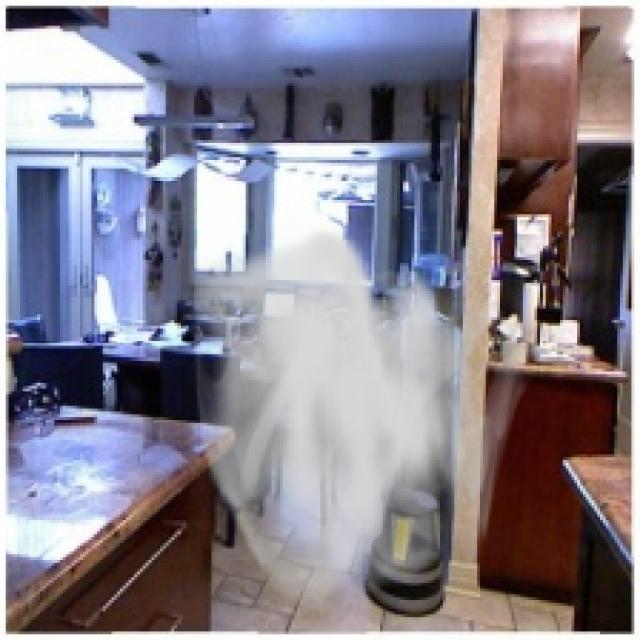Smoke: (182, 225, 534, 618)
